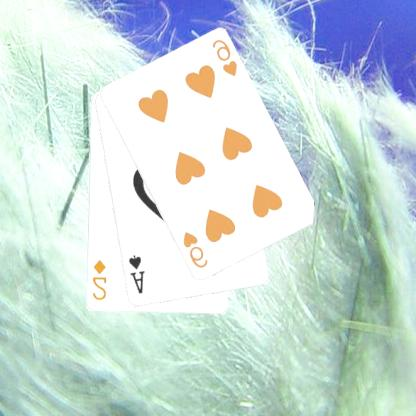2D: (90, 257, 110, 302)
6H: (211, 36, 241, 78), (182, 230, 211, 270)
AS: (127, 253, 148, 296)
